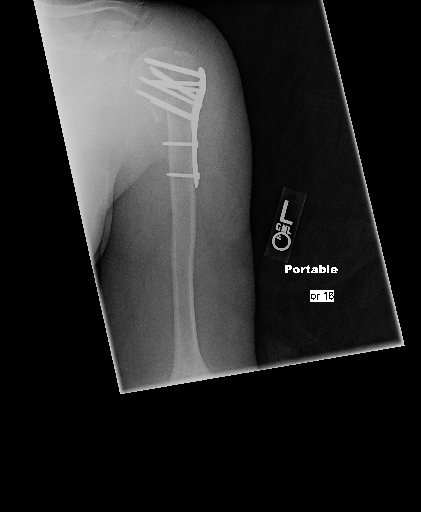implant: (134, 57, 206, 193)
